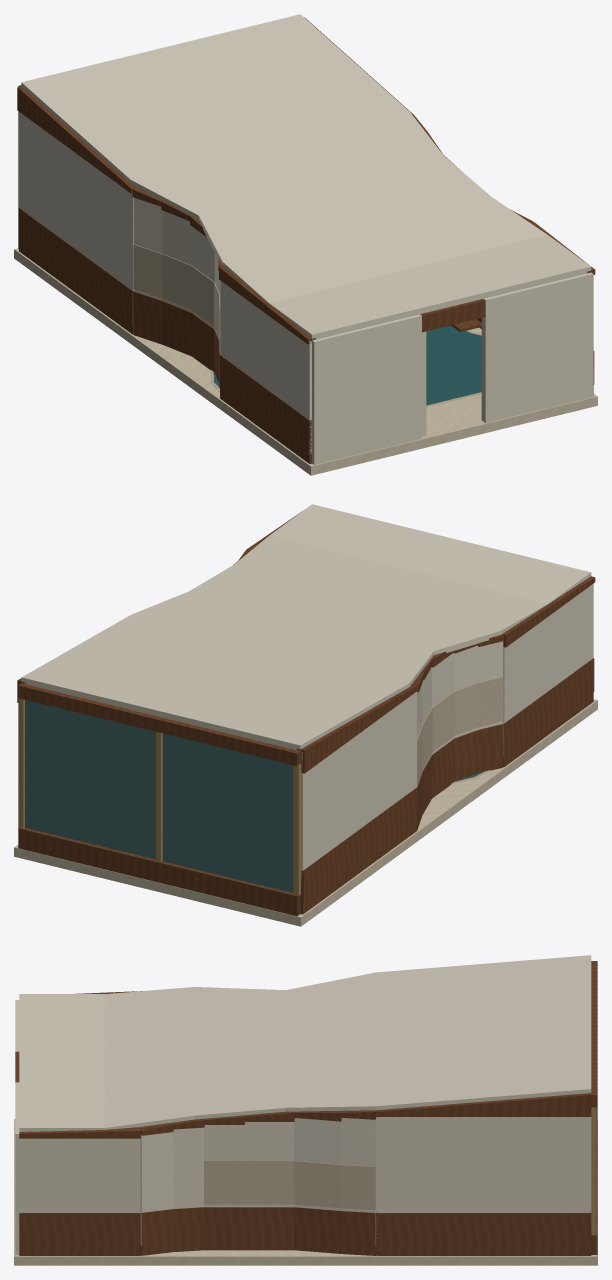
File: shell.glb
The picture shows the model from 3 angles, top to bottom: view 1: azimuth 30°, elevation 25°; view 2: azimuth 150°, elevation 25°; view 3: azimuth 270°, elevation 25°; orthographic projection.
Parts seen in each view (by area): view 1: QG_Runtime_ivory_enamel, QG_Runtime_warm_walnut, QG_Runtime_warm_stone, QG_Runtime_oatmeal_weave, QG_Runtime_teal_weave; view 2: QG_Runtime_ivory_enamel, QG_Runtime_QG_SourceDirectionalPrivacy_NOT_RUNTIME_ACCEPTED, QG_Runtime_warm_walnut, QG_Runtime_warm_stone, QG_Runtime_oatmeal_weave, QG_Runtime_champagne_metal; view 3: QG_Runtime_ivory_enamel, QG_Runtime_warm_walnut, QG_Runtime_oatmeal_weave, QG_Runtime_warm_stone, QG_Runtime_champagne_metal.
Boxes of the visible parts, bbox=[...] form: QG_Runtime_ivory_enamel: bbox=[19, 14, 593, 464]; QG_Runtime_warm_walnut: bbox=[17, 17, 595, 463]; QG_Runtime_warm_stone: bbox=[14, 248, 597, 475]; QG_Runtime_oatmeal_weave: bbox=[133, 244, 481, 406]; QG_Runtime_teal_weave: bbox=[213, 325, 481, 405]; QG_Runtime_ivory_enamel: bbox=[21, 504, 593, 885]; QG_Runtime_QG_SourceDirectionalPrivacy_NOT_RUNTIME_ACCEPTED: bbox=[25, 700, 293, 892]; QG_Runtime_warm_walnut: bbox=[17, 511, 595, 916]; QG_Runtime_warm_stone: bbox=[14, 699, 597, 926]; QG_Runtime_oatmeal_weave: bbox=[417, 677, 503, 784]; QG_Runtime_champagne_metal: bbox=[18, 698, 300, 895]; QG_Runtime_ivory_enamel: bbox=[15, 955, 591, 1254]; QG_Runtime_warm_walnut: bbox=[15, 961, 597, 1255]; QG_Runtime_oatmeal_weave: bbox=[204, 1161, 375, 1210]; QG_Runtime_warm_stone: bbox=[14, 1119, 597, 1265]; QG_Runtime_champagne_metal: bbox=[591, 1107, 596, 1235].
Size of the model in its own units: 7.2 by 4.26 by 12.9.
8 materials, 6 textured.
